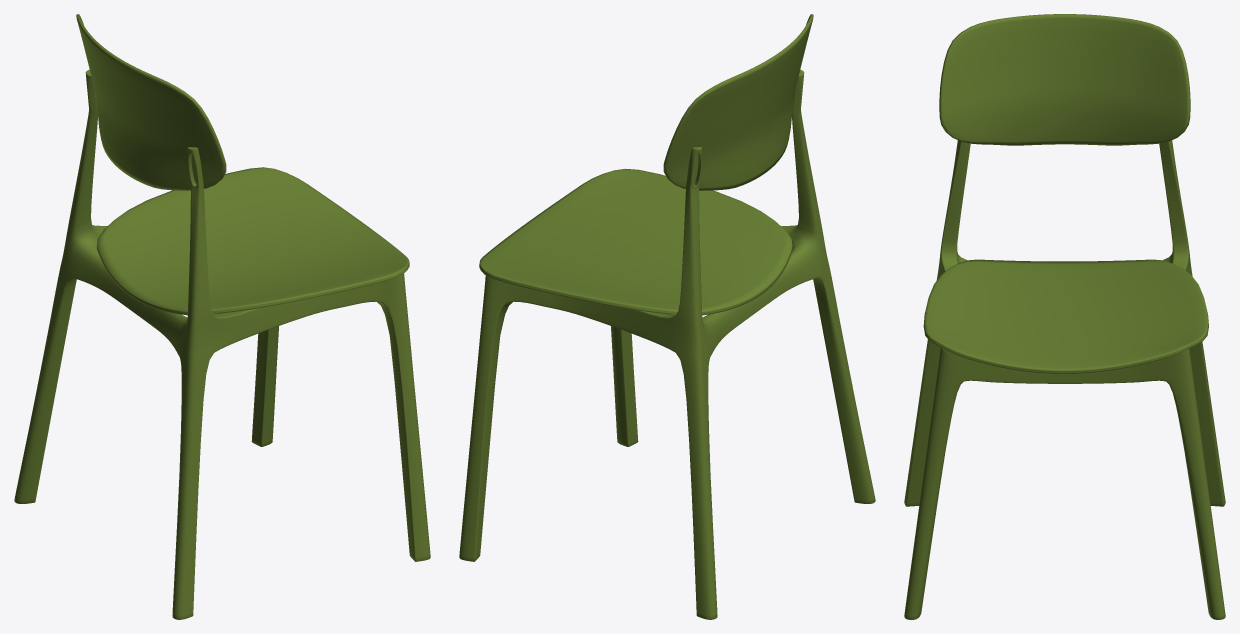
Rendered from living_chair_2.obj.
3 views of the same model, side by side, from view 1: azimuth 30°, elevation 25°; view 2: azimuth 150°, elevation 25°; view 3: azimuth 270°, elevation 25° (orthographic). The views are drawn at different scales.
Parts seen in each view (by area): view 1: Chair1.001; view 2: Chair1.001; view 3: Chair1.001.
Part boxes in pixels (x1,y1,x2,y2): Chair1.001: (14,14,430,619); Chair1.001: (459,14,875,619); Chair1.001: (904,14,1225,619).
Size of the model in its own units: 0.5637 by 0.9929 by 0.5888.
